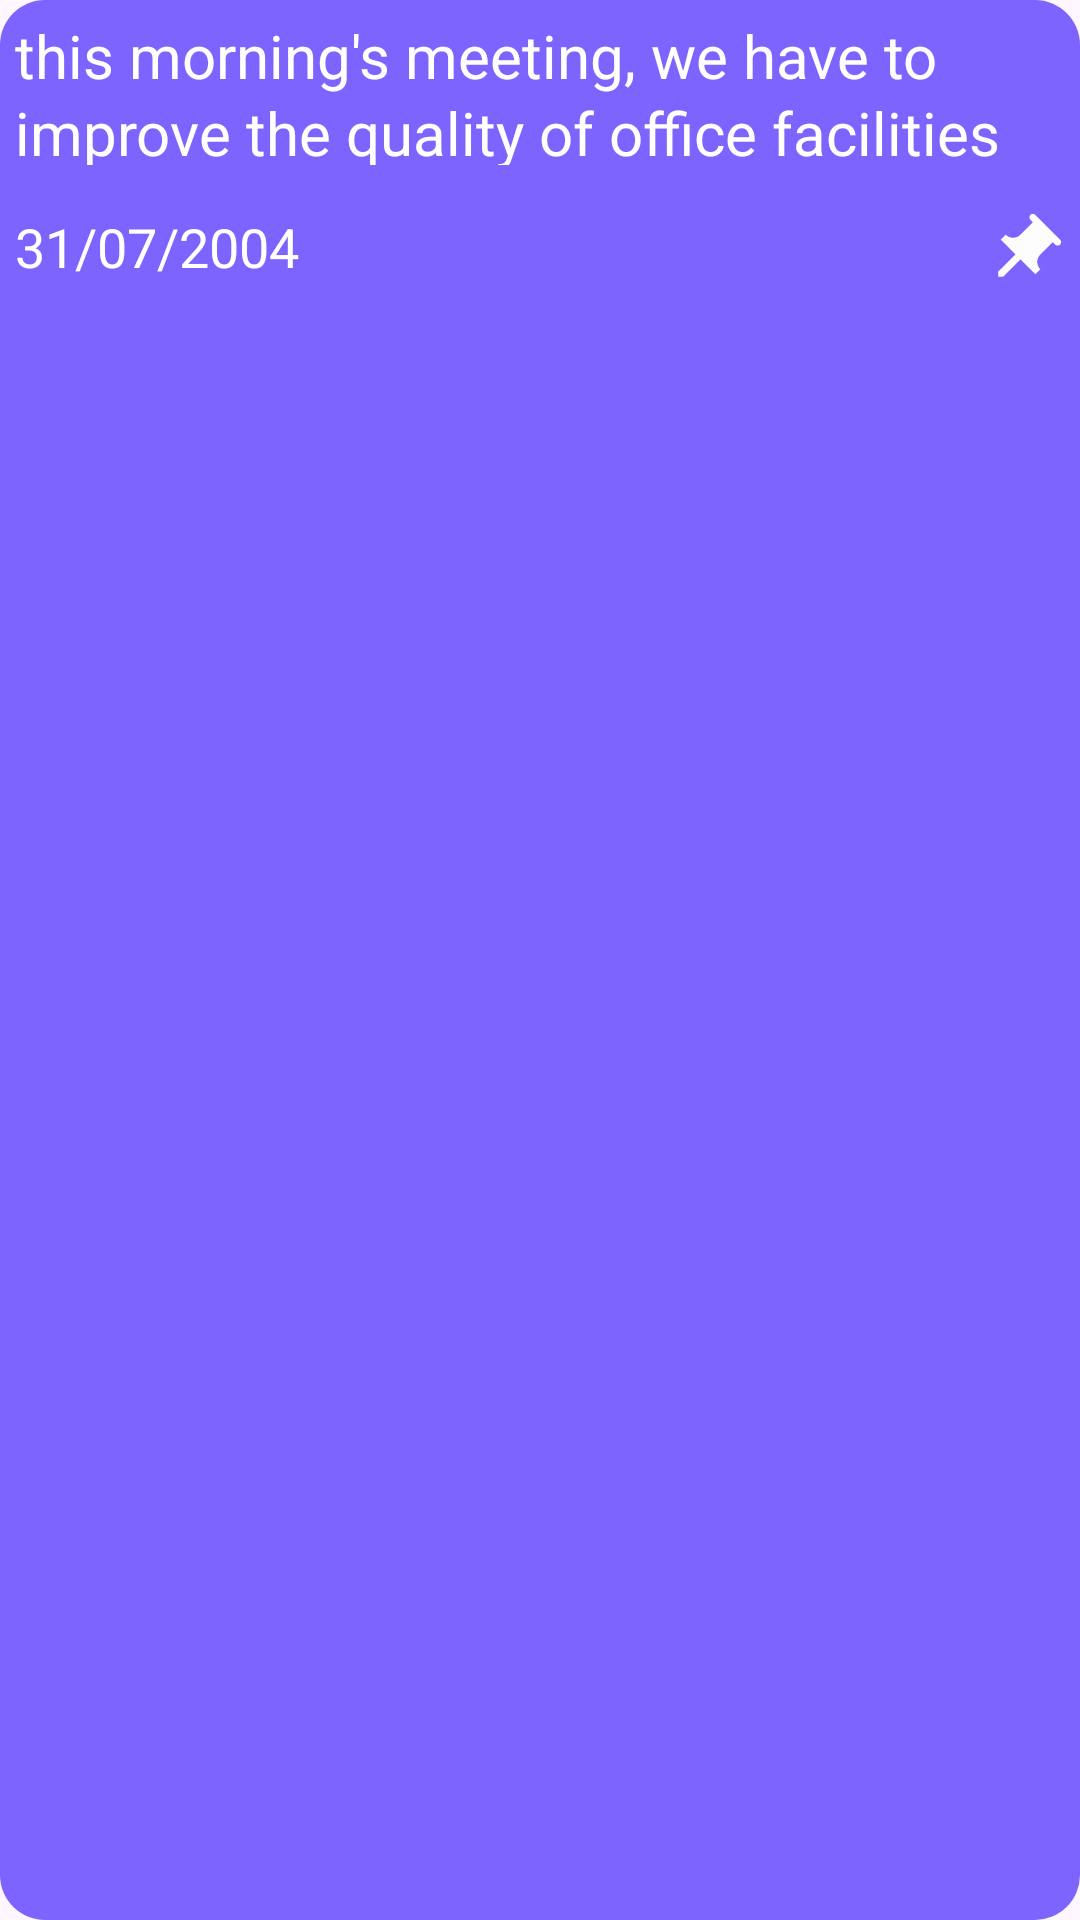

Icon bounding boxes for this 1080×1920 phone screenshot, format (x1, y1, x2, y2):
this is button push pin: (998, 214, 1061, 277)
